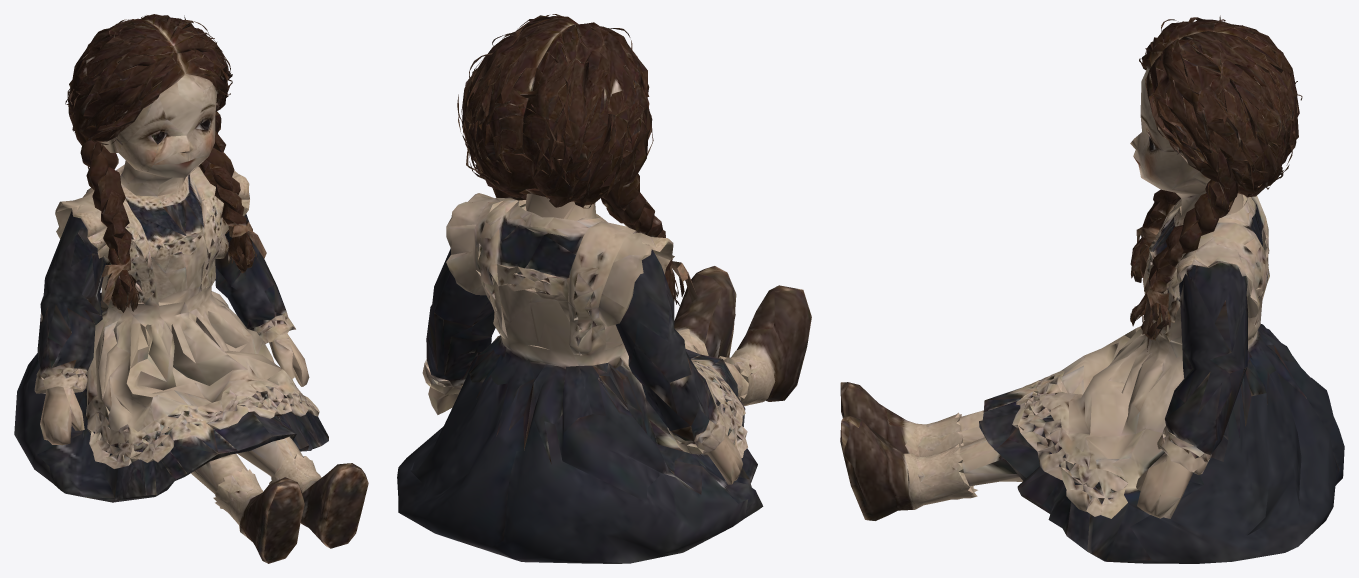
Rendered from up_doll_dark.glb.
3 renders of one model, left to right at view 1: azimuth 30°, elevation 25°; view 2: azimuth 150°, elevation 25°; view 3: azimuth 270°, elevation 25°, orthographic. The views are drawn at different scales.
Visible parts, largest first — view 1: up_doll_dark; view 2: up_doll_dark; view 3: up_doll_dark.
Part boxes in pixels (x1,y1,x2,y2): up_doll_dark: (14, 14, 368, 563); up_doll_dark: (397, 14, 811, 563); up_doll_dark: (840, 15, 1344, 563).
Size of the model in its own units: 0.3303 by 0.5 by 0.4814.
Materials: 1 (1 with a texture image).
